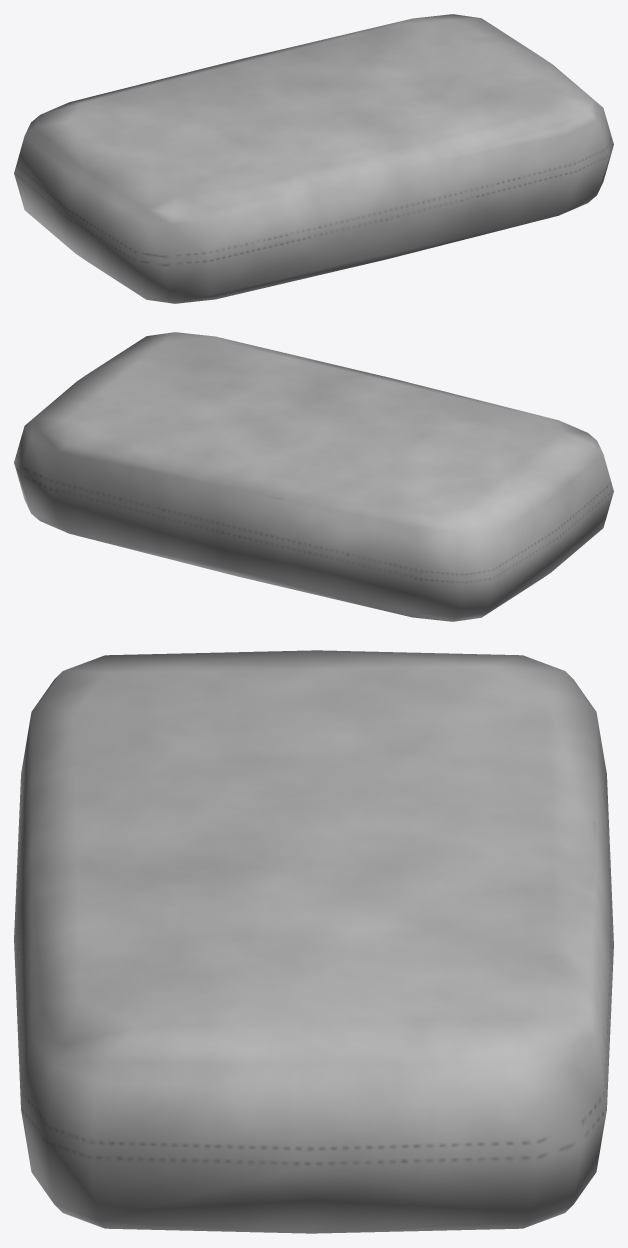
Rendered from LowerTorso_C1.fbx.
The picture shows the model from 3 angles, top to bottom: view 1: azimuth 30°, elevation 25°; view 2: azimuth 150°, elevation 25°; view 3: azimuth 270°, elevation 25°; orthographic projection. The views are drawn at different scales.
Visible parts, largest first — view 1: Civ_Mameluco_LowerTorso_C1; view 2: Civ_Mameluco_LowerTorso_C1; view 3: Civ_Mameluco_LowerTorso_C1.
Boxes of the visible parts, x1,y1,x2,y2 form: Civ_Mameluco_LowerTorso_C1: (14,14,613,303); Civ_Mameluco_LowerTorso_C1: (14,332,613,621); Civ_Mameluco_LowerTorso_C1: (14,650,613,1233).
Bounding box in the file's own units: 2.28 × 0.4721 × 1.29.
